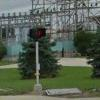Traffic light: (25, 23, 61, 43)
